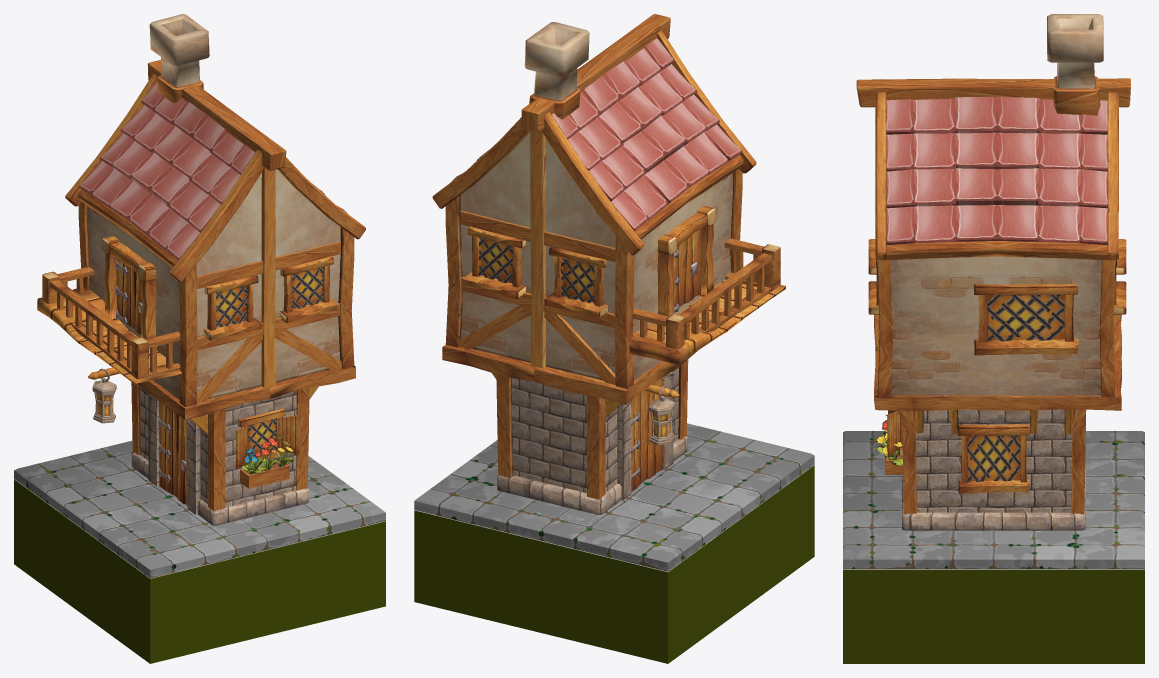
Rendered from med_house_02.fbx.
The picture shows the model from 3 angles, left to right: view 1: azimuth 30°, elevation 25°; view 2: azimuth 150°, elevation 25°; view 3: azimuth 270°, elevation 25°; orthographic projection. The views are drawn at different scales.
Parts seen in each view (by area): view 1: House_02_Mesh, med_house_02; view 2: House_02_Mesh, med_house_02; view 3: House_02_Mesh, med_house_02.
Part boxes in pixels (<box>): House_02_Mesh: <box>14,14,385,578</box>; med_house_02: <box>14,479,385,663</box>; House_02_Mesh: <box>414,14,814,571</box>; med_house_02: <box>414,465,814,663</box>; House_02_Mesh: <box>843,14,1144,568</box>; med_house_02: <box>843,569,1144,663</box>.
Size of the model in its own units: 100 by 214 by 100.
